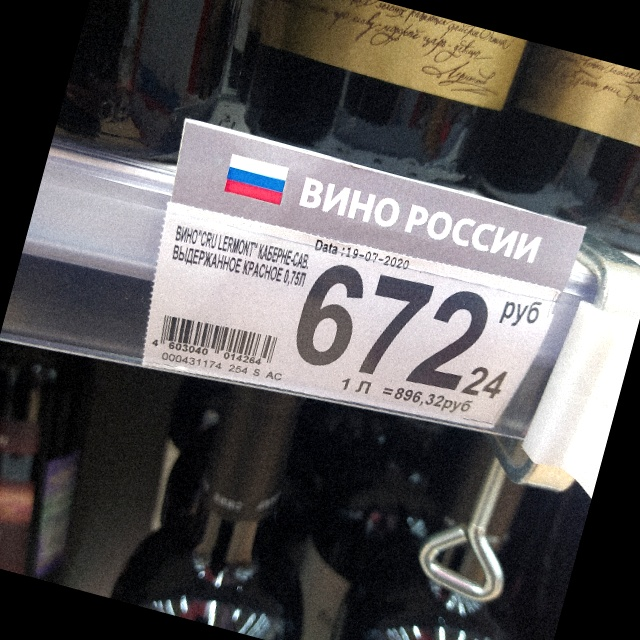barcode: (146, 313, 278, 367)
name: (170, 225, 312, 288)
price: (294, 262, 512, 403)
price_tag: (142, 116, 588, 429)
